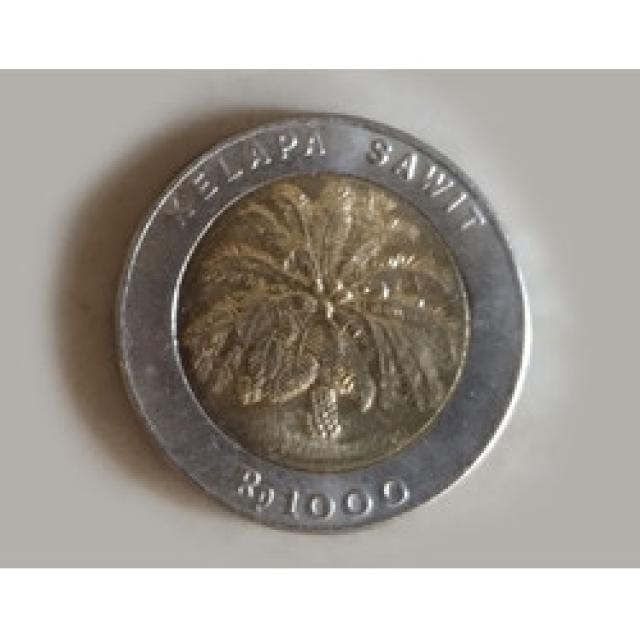1000-sawit: (112, 91, 533, 543)
